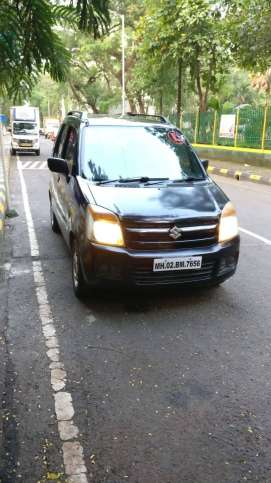license_plate: (151, 255, 204, 270)
